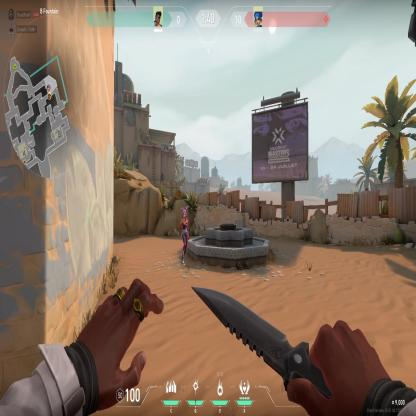enemy: (178, 205, 190, 267)
